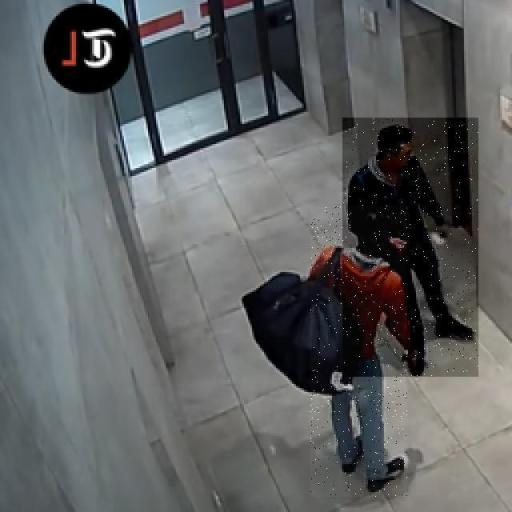Fall: (343, 118, 479, 377), (311, 206, 408, 497)
